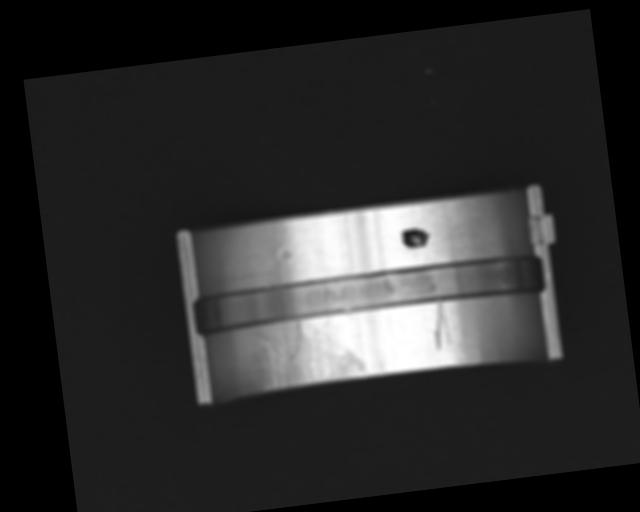blot: (400, 226, 431, 250)
bruise: (276, 244, 293, 267)
gap: (191, 252, 547, 335)
nick: (428, 298, 452, 351)
scratch: (248, 310, 367, 394)
